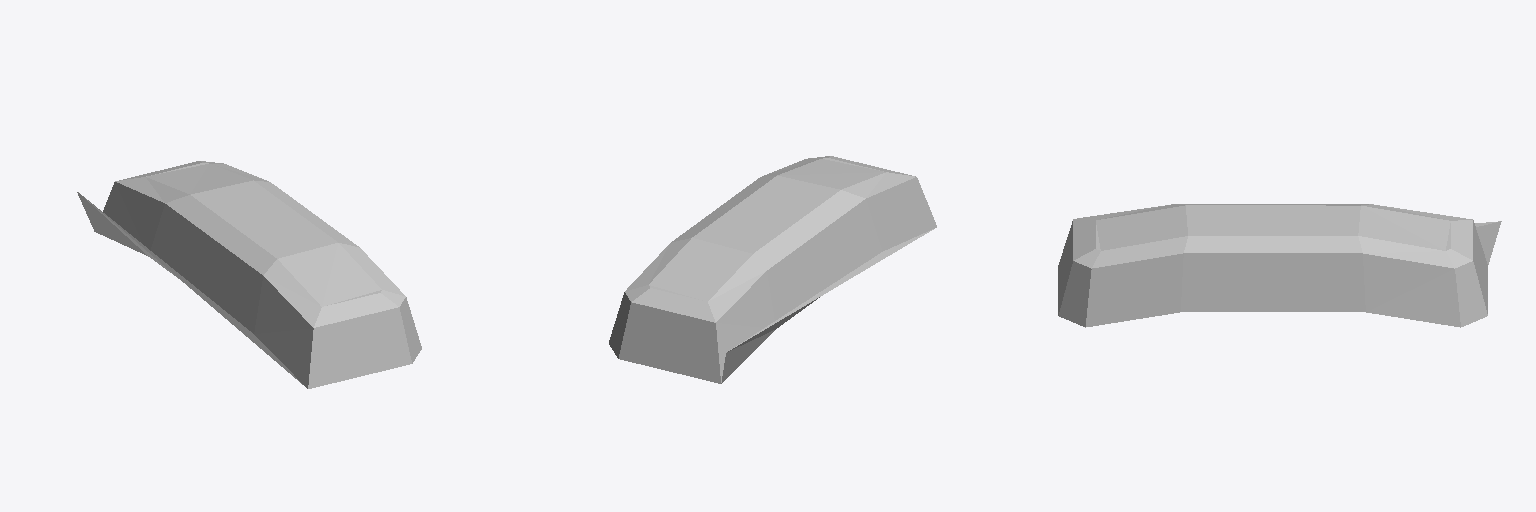
File: telefonoTri.obj
3 renders of one model, left to right at view 1: azimuth 30°, elevation 25°; view 2: azimuth 150°, elevation 25°; view 3: azimuth 270°, elevation 25°, orthographic.
Visible parts, largest first — view 1: Telefon.001_Malla.002; view 2: Telefon.001_Malla.002; view 3: Telefon.001_Malla.002.
Part boxes in pixels (bbox=[...]): Telefon.001_Malla.002: bbox=[77, 161, 421, 388]; Telefon.001_Malla.002: bbox=[609, 156, 936, 383]; Telefon.001_Malla.002: bbox=[1058, 204, 1501, 327].
Bounding box in the file's own units: 0.0528 × 0.0278 × 0.1471.